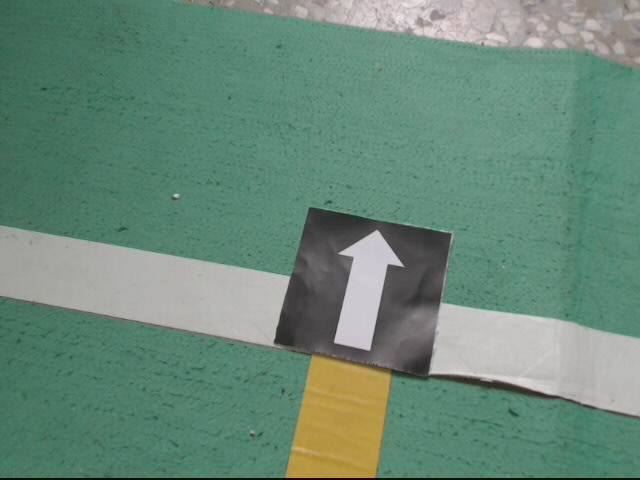straight: (276, 206, 450, 379)
